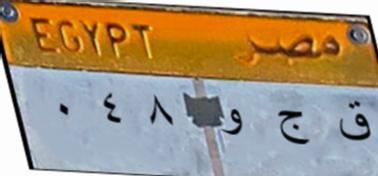0: (51, 100, 74, 119)
4: (95, 90, 126, 130)
8: (142, 88, 178, 134)
jeem: (273, 105, 311, 148)
qaaf: (338, 97, 372, 146)
waw: (220, 107, 249, 140)
